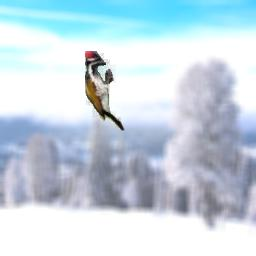Woodpecker: (85, 51, 125, 131)
